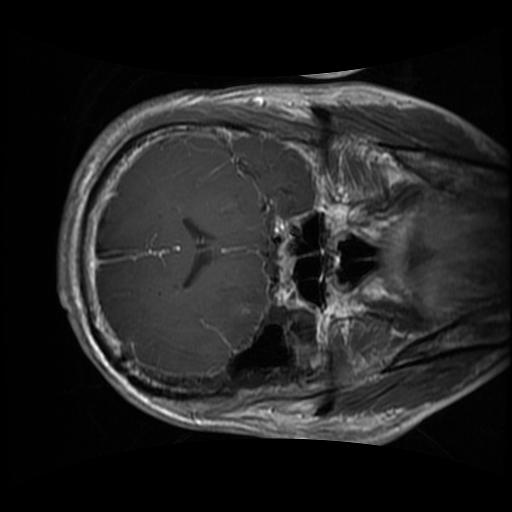glioma: (132, 305, 314, 392)
